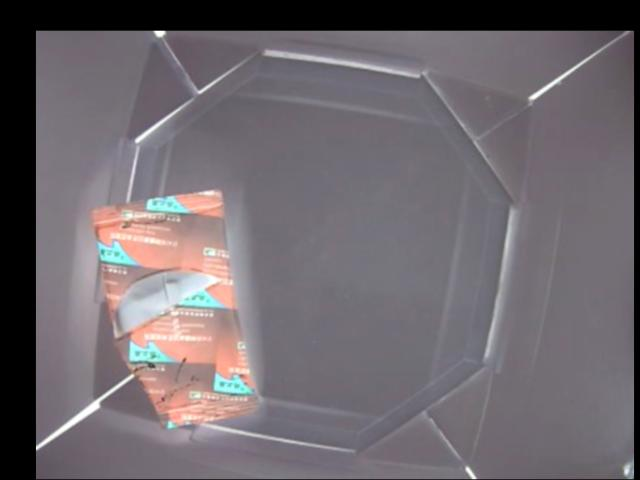Medicine: (91, 187, 259, 431)
